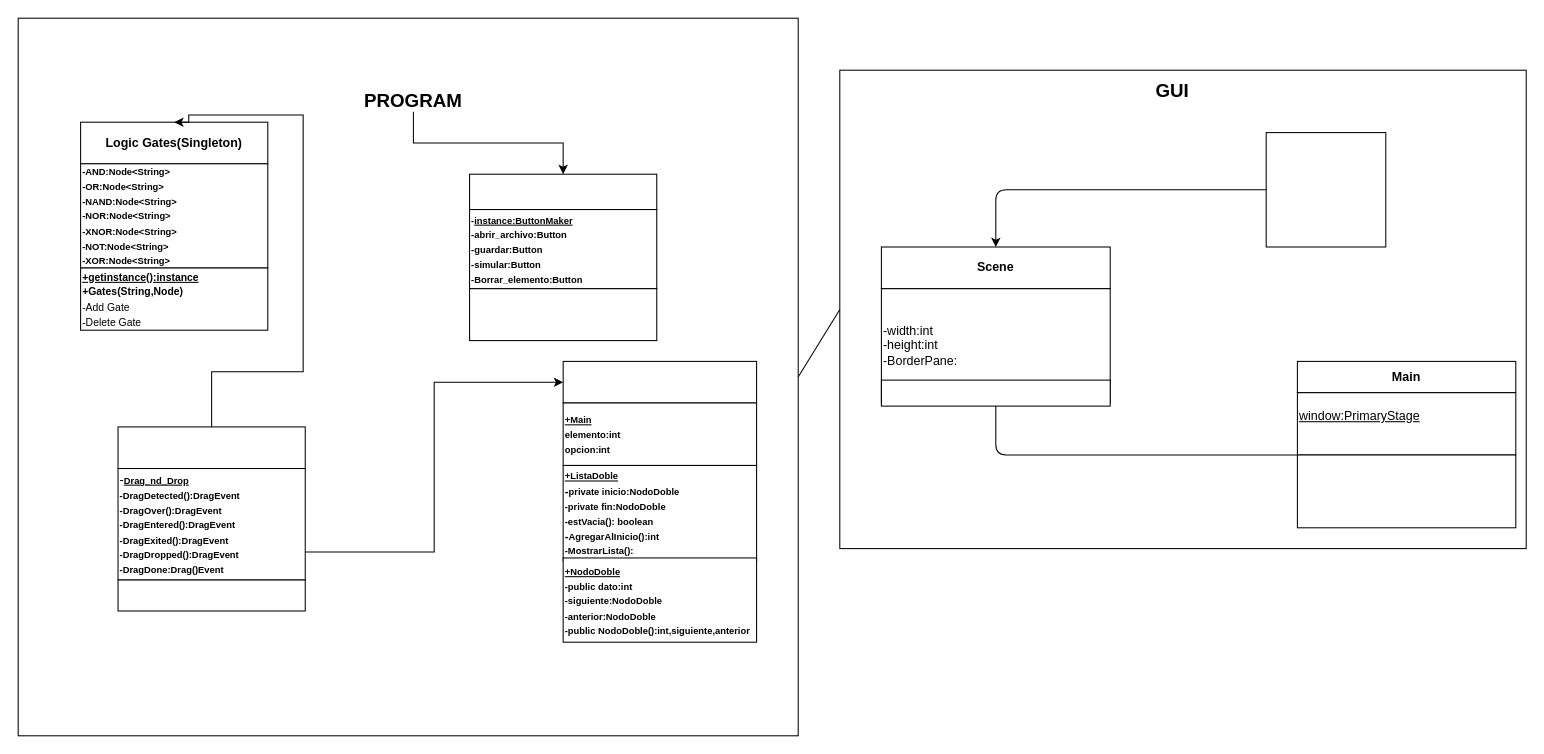
This 1544x754 diagram has some shape labels left out. The shapes that lost their labels are listed below. From the top down, each one's centre as x and y in pixels, then its label:
At [563,191]: "Button Events".
At [1325,189]: "Principal Program".
At [563,314]: "getInstance:instance() -getButton() -EventHandler:Event".
At [659,381]: "List-Node".
At [211,447]: "Drag n Drop".
At [1406,491]: "main(String []args) start(PrimaryStage) close()".
